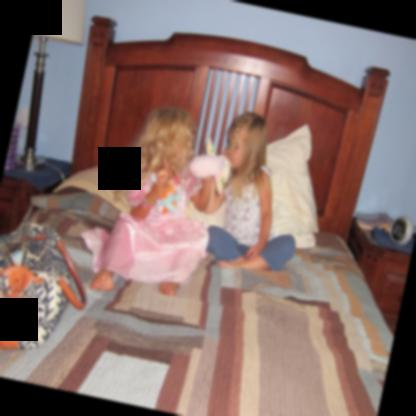handbag: (0, 221, 90, 349)
